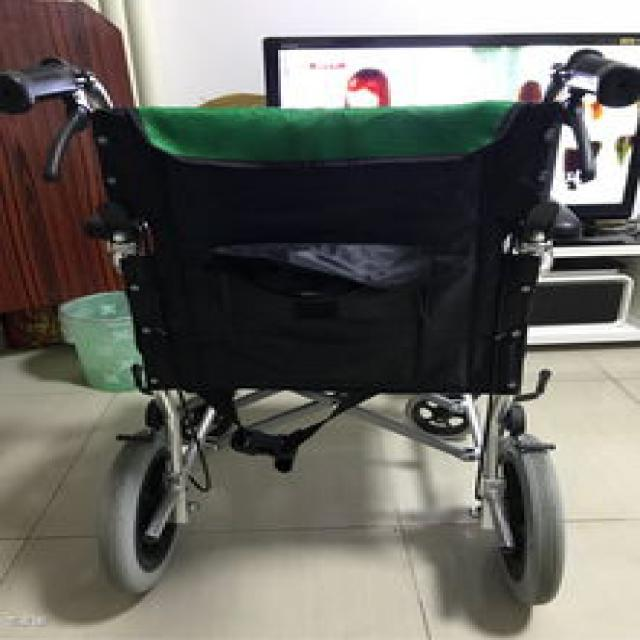wheelchair: (3, 49, 637, 632)
